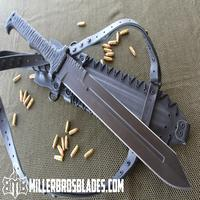knife: (6, 9, 192, 190)
